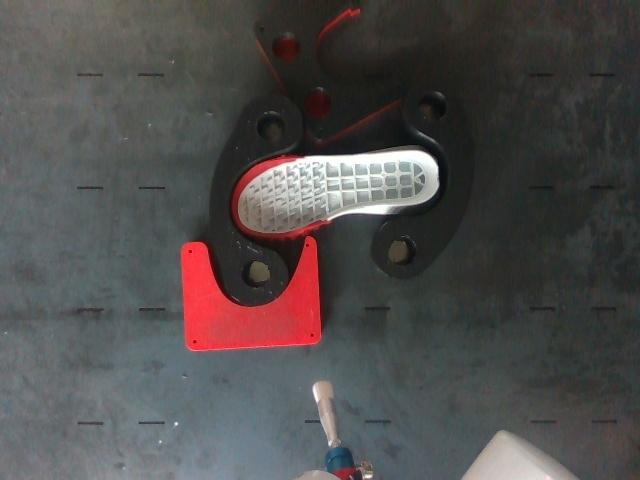shoes: (233, 150, 439, 235)
